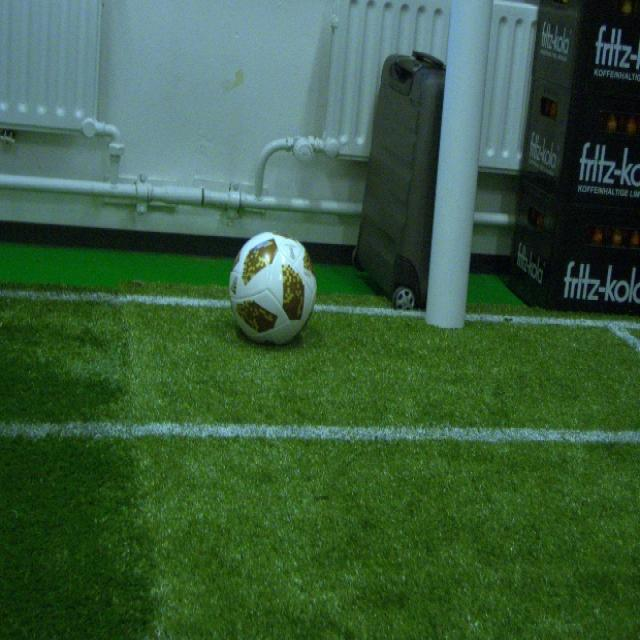ball: (226, 232, 317, 343)
goalpost: (424, 0, 493, 329)
